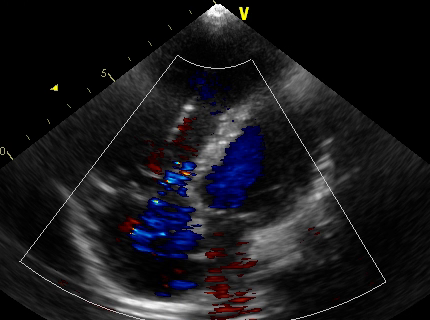TR: (136, 165, 201, 224)
